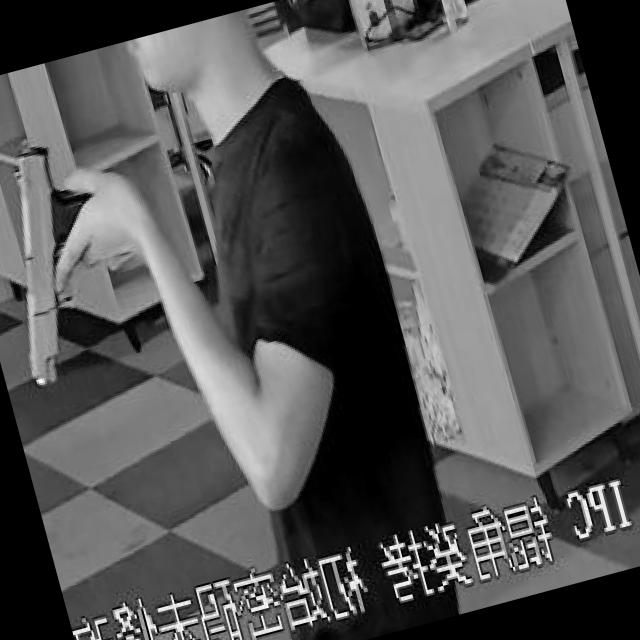Guns: (0, 97, 162, 420)
